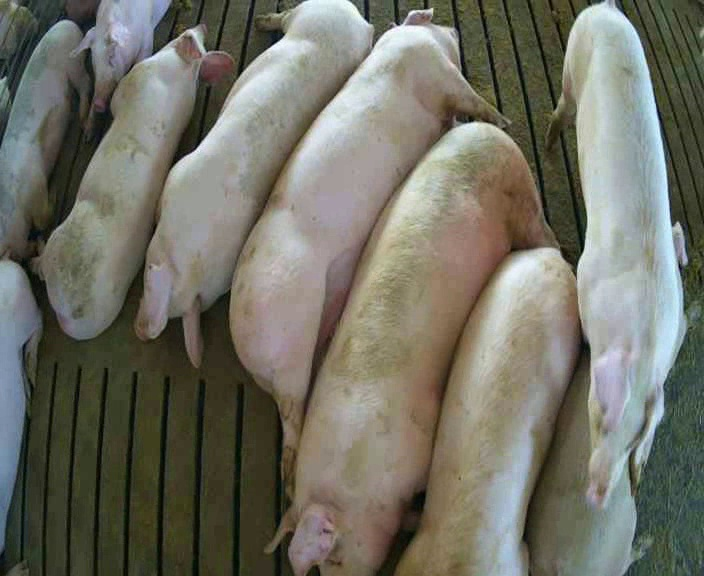pig: (273, 123, 554, 574), (135, 2, 372, 365), (548, 3, 684, 508), (28, 26, 232, 338), (397, 248, 579, 574), (0, 20, 90, 257), (71, 1, 169, 141)
